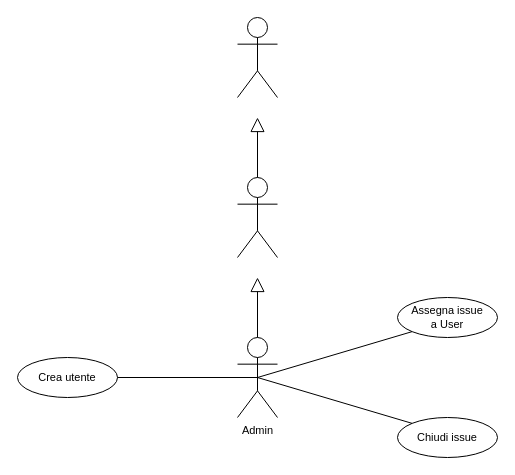
This 515x475 diagram has some shape labels left out. Here are the shapes that lost their labels. From the top down, the centre of each, then its label:
At (257,57): "Lurker".
At (257,217): "User".
